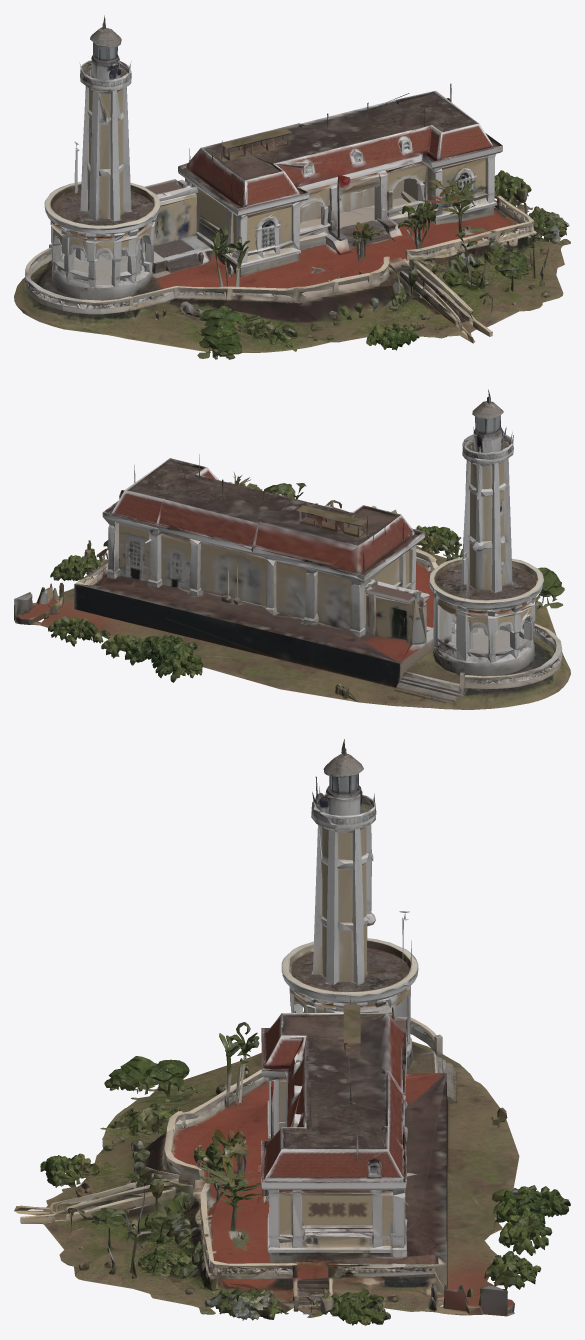
File: hai_dang_multi_raw.glb
3 renders of one model, top to bottom at view 1: azimuth 30°, elevation 25°; view 2: azimuth 150°, elevation 25°; view 3: azimuth 270°, elevation 25°, orthographic. The views are drawn at different scales.
Parts seen in each view (by area): view 1: Mesh_0; view 2: Mesh_0; view 3: Mesh_0.
Boxes of the visible parts, <box> form: Mesh_0: <box>14,15,570,359</box>; Mesh_0: <box>14,389,570,709</box>; Mesh_0: <box>14,739,570,1325</box>.
Bounding box in the file's own units: 1.9 × 1.03 × 1.52.
1 material, 1 textured.
